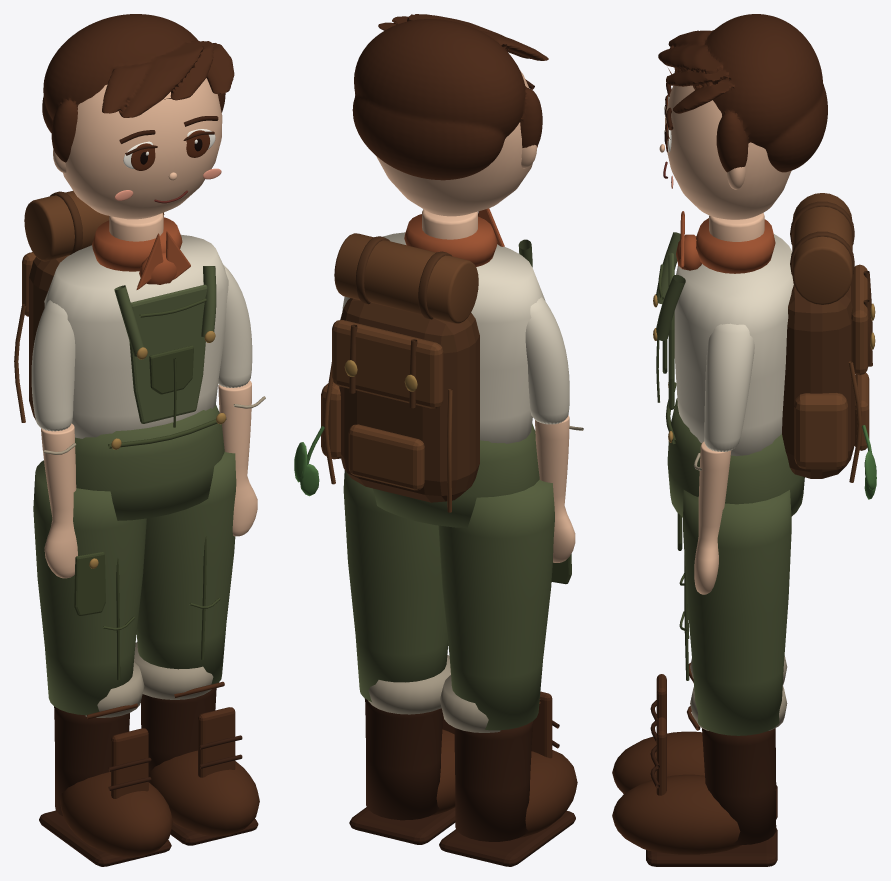
The model's file is player_character_v2.glb.
The picture shows the model from 3 angles, left to right: view 1: azimuth 30°, elevation 25°; view 2: azimuth 150°, elevation 25°; view 3: azimuth 270°, elevation 25°; orthographic projection. The views are drawn at different scales.
Visible parts, largest first — view 1: Trouser_-1, ShirtTorso, HairV68Unified, Trouser_1, HeadV57, OverallHips, BootToe_-1, OverallBib, BootToe_1, SleeveV65_-1, BootShaft_-1, ArmHandV65_-1 (+23 smaller); view 2: HairV68Unified, Trouser_-1, Trouser_1, Backpack, ShirtTorso, BootShaft_-1, BootShaft_1, Bedroll, BackpackFlap, OverallHips, HeadV57, SleeveV65_-1 (+16 smaller); view 3: Trouser_1, HairV68Unified, ShirtTorso, HeadV57, Backpack, BootToe_1, BootShaft_1, OverallHips, Bedroll, SleeveV65_1, BackpackSidePouch, ArmHandV65_1 (+12 smaller).
Boxes of the visible parts, left/top/right/bottom form: Trouser_-1: left=33, top=460, right=146, bottom=715; ShirtTorso: left=44, top=234, right=228, bottom=438; HairV68Unified: left=42, top=14, right=234, bottom=162; Trouser_1: left=136, top=452, right=236, bottom=684; HeadV57: left=63, top=78, right=222, bottom=219; OverallHips: left=75, top=405, right=224, bottom=520; BootToe_-1: left=60, top=772, right=172, bottom=857; OverallBib: left=129, top=284, right=207, bottom=423; BootToe_1: left=148, top=750, right=259, bottom=836; SleeveV65_-1: left=31, top=300, right=75, bottom=431; BootShaft_-1: left=54, top=706, right=129, bottom=815; ArmHandV65_-1: left=41, top=423, right=77, bottom=578; HairV68Unified: left=352, top=14, right=548, bottom=180; Trouser_-1: left=438, top=479, right=554, bottom=730; Trouser_1: left=343, top=470, right=448, bottom=701; Backpack: left=339, top=298, right=479, bottom=502; ShirtTorso: left=382, top=232, right=545, bottom=443; BootShaft_-1: left=454, top=721, right=533, bottom=841; BootShaft_1: left=364, top=698, right=442, bottom=820; Bedroll: left=334, top=233, right=478, bottom=323; BackpackFlap: left=332, top=320, right=443, bottom=408; OverallHips: left=373, top=423, right=539, bottom=527; HeadV57: left=376, top=70, right=537, bottom=216; SleeveV65_-1: left=525, top=297, right=569, bottom=424; Trouser_1: left=683, top=490, right=791, bottom=735; HairV68Unified: left=658, top=14, right=827, bottom=172; ShirtTorso: left=674, top=234, right=793, bottom=456; HeadV57: left=665, top=85, right=791, bottom=219; Backpack: left=782, top=276, right=855, bottom=478; BootToe_1: left=612, top=774, right=741, bottom=854; BootShaft_1: left=702, top=728, right=776, bottom=844; OverallHips: left=667, top=398, right=804, bottom=517; Bedroll: left=792, top=193, right=852, bottom=304; SleeveV65_1: left=704, top=323, right=754, bottom=451; BackpackSidePouch: left=794, top=393, right=847, bottom=469; ArmHandV65_1: left=694, top=441, right=731, bottom=594.
Size of the model in its own units: 0.5724 by 1.95 by 0.5814.
